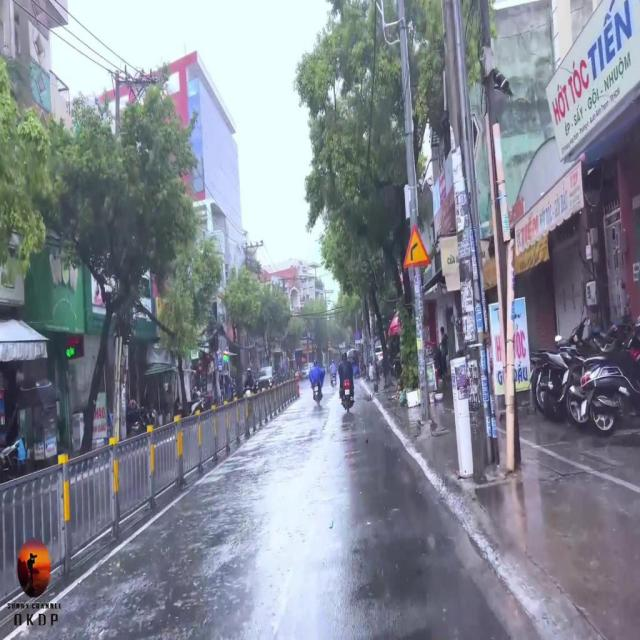cho_ngoat_nguy_hiem_ben_phai: (402, 223, 430, 268)
